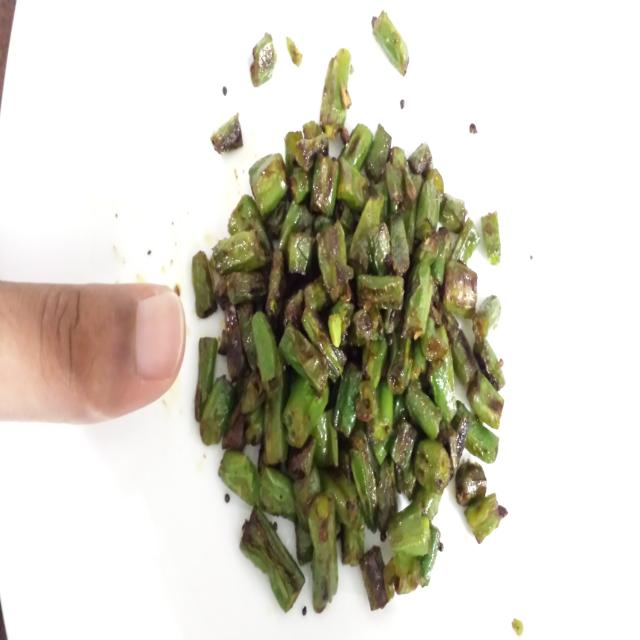bean: (190, 21, 533, 636)
